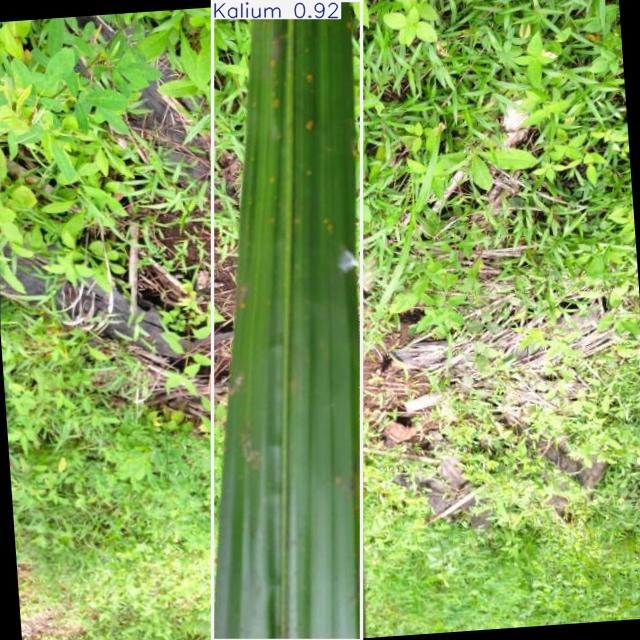Kalium: (213, 1, 362, 640)
